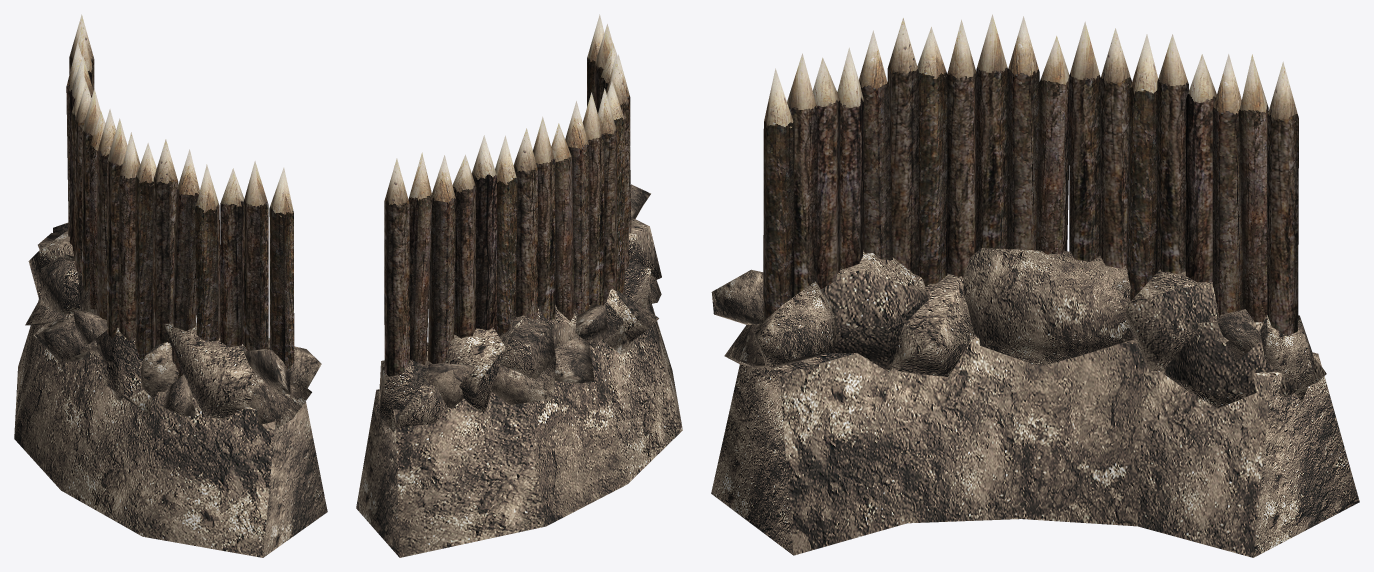
The model's file is palisade_rocks_curve.dae.
The picture shows the model from 3 angles, left to right: view 1: azimuth 30°, elevation 25°; view 2: azimuth 150°, elevation 25°; view 3: azimuth 270°, elevation 25°; orthographic projection. The views are drawn at different scales.
Parts seen in each view (by area): view 1: Curve; view 2: Curve; view 3: Curve.
Part boxes in pixels (<box>): Curve: <box>14,14,327,557</box>; Curve: <box>356,14,682,557</box>; Curve: <box>711,14,1359,557</box>.
Bounding box in the file's own units: 4.79 × 12.08 × 9.63.
